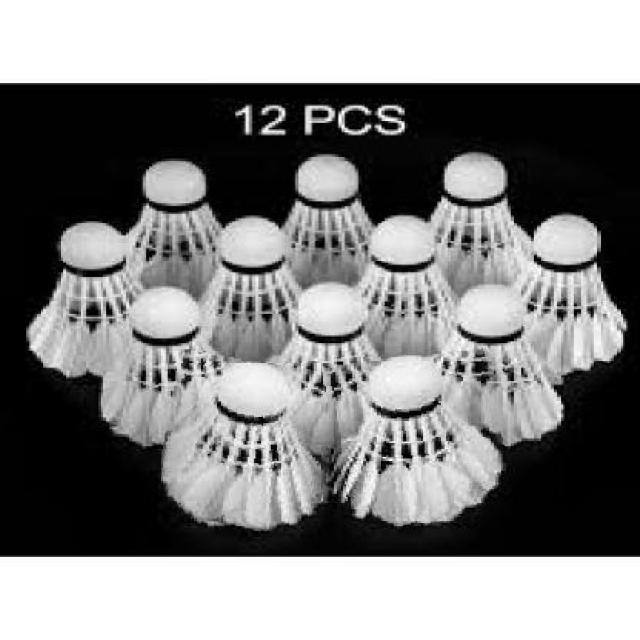Shuttlecock: (334, 357, 503, 529), (158, 362, 323, 531)
